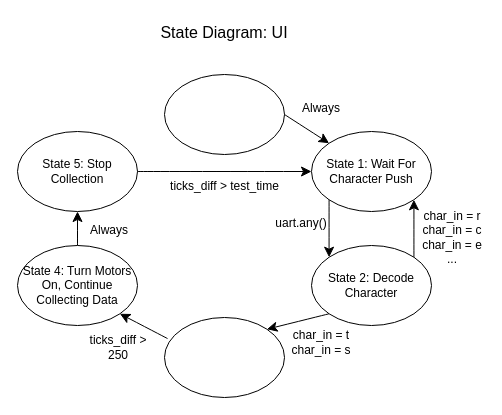
This 502x415 diagram has some shape labels left out. Each missing label, with the centre of its shape:
"State 0: Initialize" belongs at point (224, 114).
"State 3: Start Data Collect Without Motors Enabled" belongs at point (224, 357).
